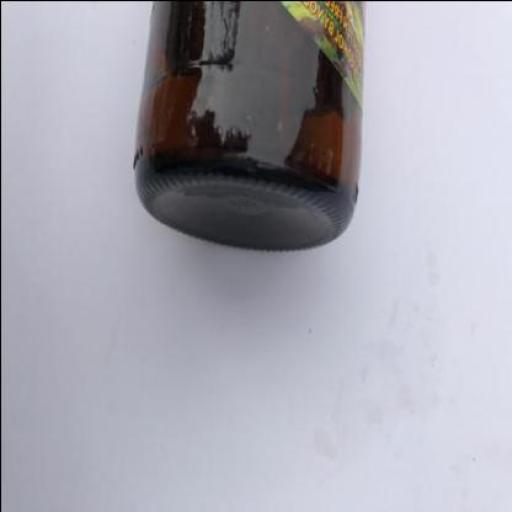glass: (132, 1, 366, 249)
